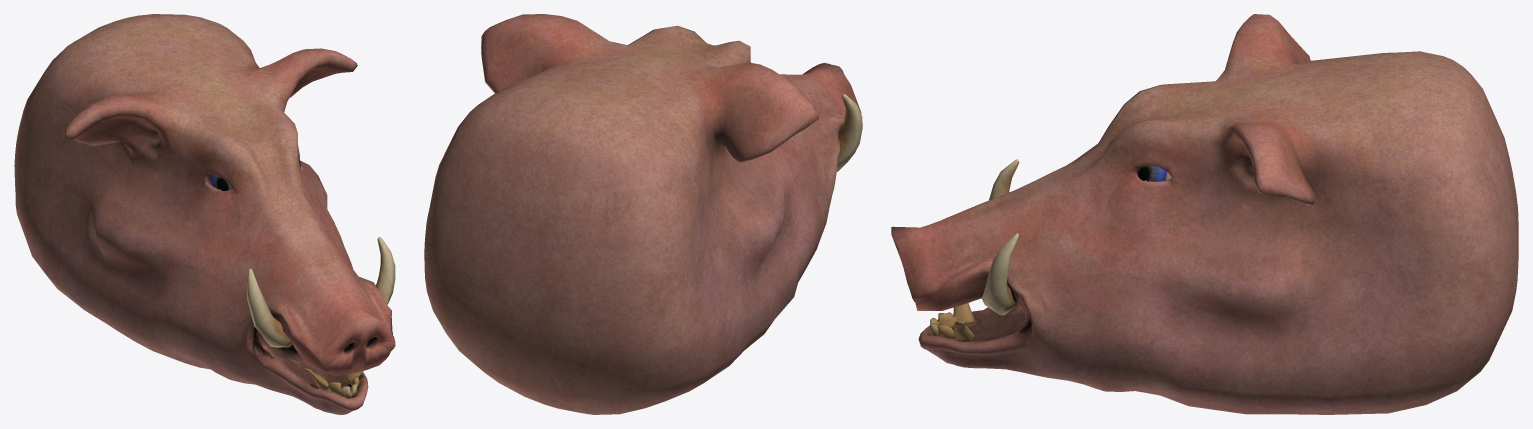
The model's file is pig_head_practice.glb.
3 renders of one model, left to right at view 1: azimuth 30°, elevation 25°; view 2: azimuth 150°, elevation 25°; view 3: azimuth 270°, elevation 25°, orthographic. The views are drawn at different scales.
Visible parts, largest first — view 1: defaultMaterial, defaultMaterial.002; view 2: defaultMaterial, defaultMaterial.002; view 3: defaultMaterial, defaultMaterial.002.
Part boxes in pixels (left/top/right/bottom): defaultMaterial: left=14, top=14, right=395, bottom=414; defaultMaterial.002: left=247, top=237, right=395, bottom=397; defaultMaterial: left=424, top=14, right=862, bottom=414; defaultMaterial.002: left=836, top=94, right=862, bottom=171; defaultMaterial: left=891, top=14, right=1518, bottom=414; defaultMaterial.002: left=930, top=159, right=1019, bottom=340.
Size of the model in its own units: 211 by 192 by 332.
Materials: 3 (3 with a texture image).
